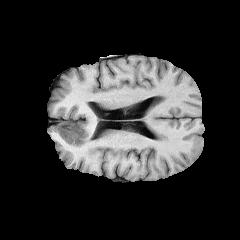glioma: (59, 121, 95, 147)
